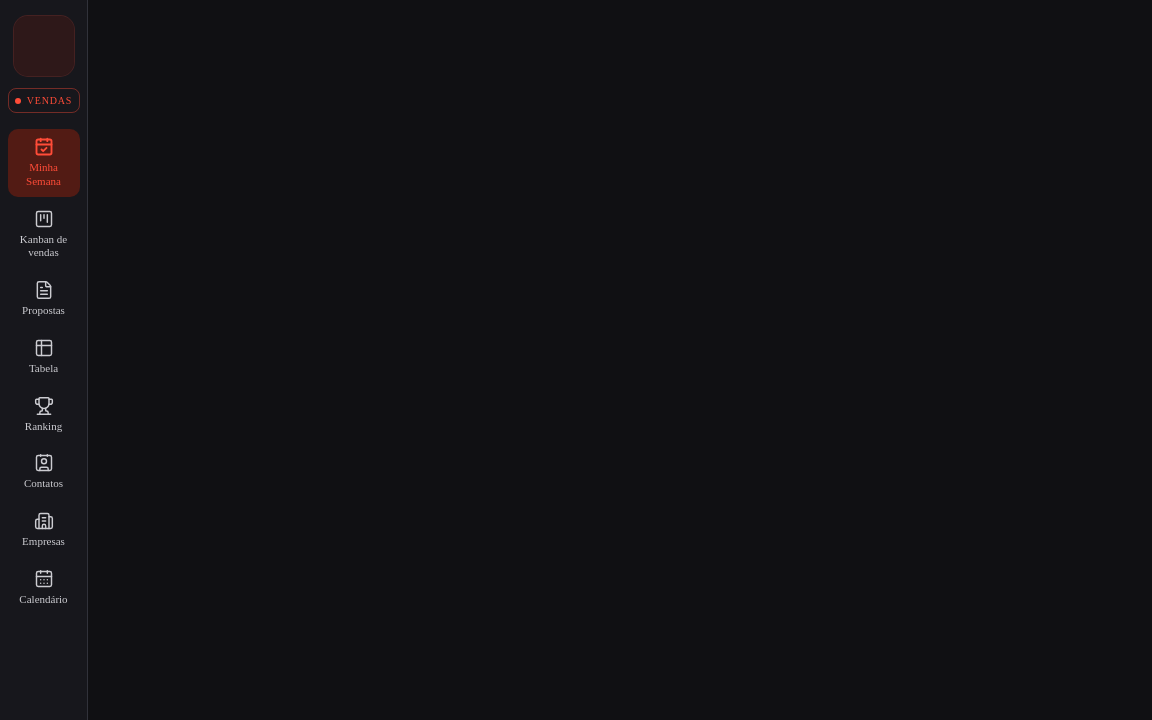
Scenario: Gaveta › abre pelo ícone com áreas e Geral; vendedor sem Gestão; destaca a área da pessoa
Step 1. Click the button named "Abrir menu de áreas" → {"x": 44, "y": 46}, box x1=14 y1=16 x2=74 y2=76
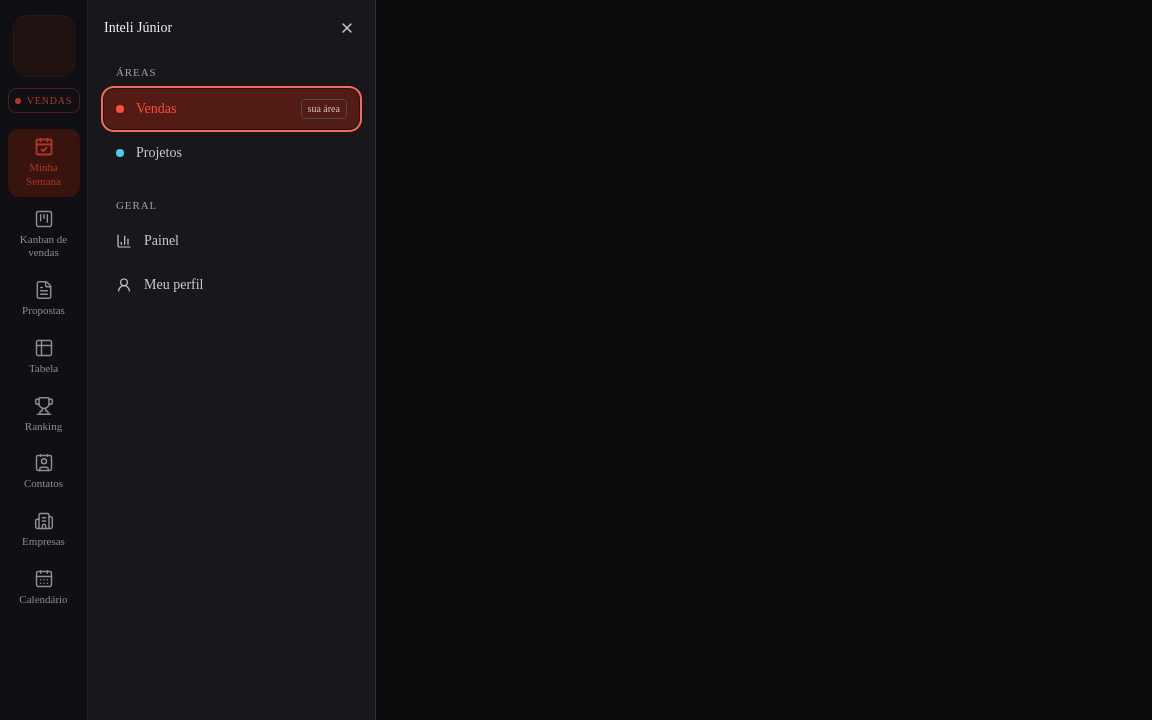
Now the link "Vendas sua área" is shown, box x1=104 y1=88 x2=359 y2=129
Now the links read "Painel", "Meu perfil", in this order, box x1=116 y1=233 x2=179 y2=249; x1=116 y1=277 x2=204 y2=293
